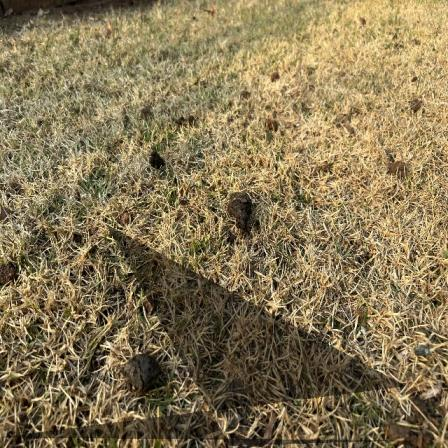dog-poop: (121, 356, 159, 395), (228, 192, 253, 232)
